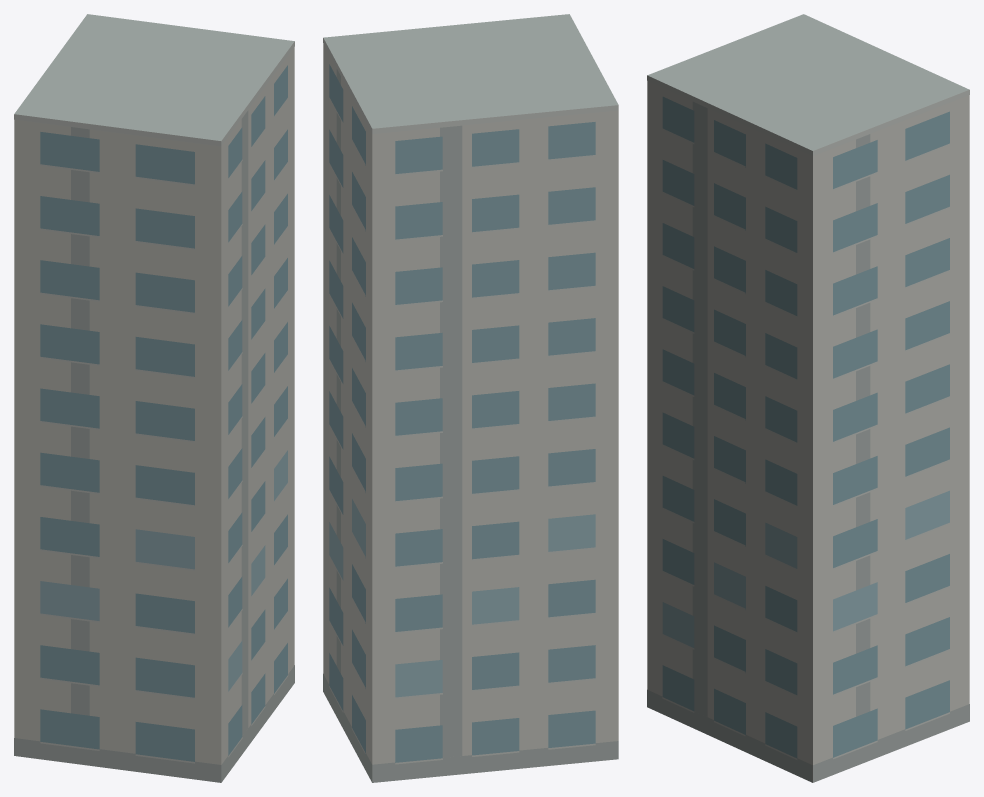
File: residential-809af872-c371-4631-85ba-eb1548605251.glb
The picture shows the model from 3 angles, left to right: view 1: azimuth 30°, elevation 25°; view 2: azimuth 150°, elevation 25°; view 3: azimuth 270°, elevation 25°; orthographic projection. The views are drawn at different scales.
Parts seen in each view (by area): view 1: residential-809af872-c371-4631-85ba-eb1548605251.tmp; view 2: residential-809af872-c371-4631-85ba-eb1548605251.tmp; view 3: residential-809af872-c371-4631-85ba-eb1548605251.tmp.
Part boxes in pixels (x1,y1,x2,y2): residential-809af872-c371-4631-85ba-eb1548605251.tmp: [14, 14, 294, 782]; residential-809af872-c371-4631-85ba-eb1548605251.tmp: [323, 14, 618, 782]; residential-809af872-c371-4631-85ba-eb1548605251.tmp: [647, 14, 969, 782].
Size of the model in its own units: 13.5 by 29 by 13.42.
